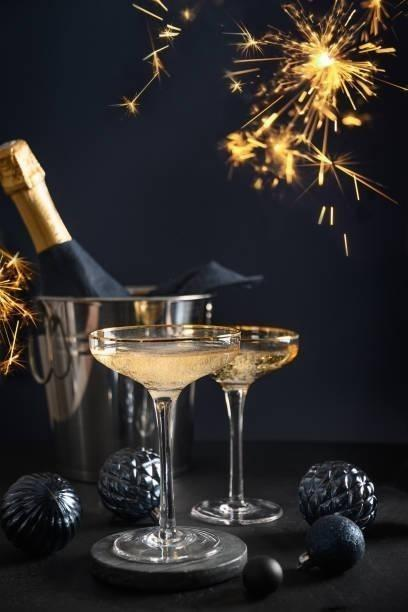glass-wine: (86, 322, 241, 564), (189, 322, 302, 526)
